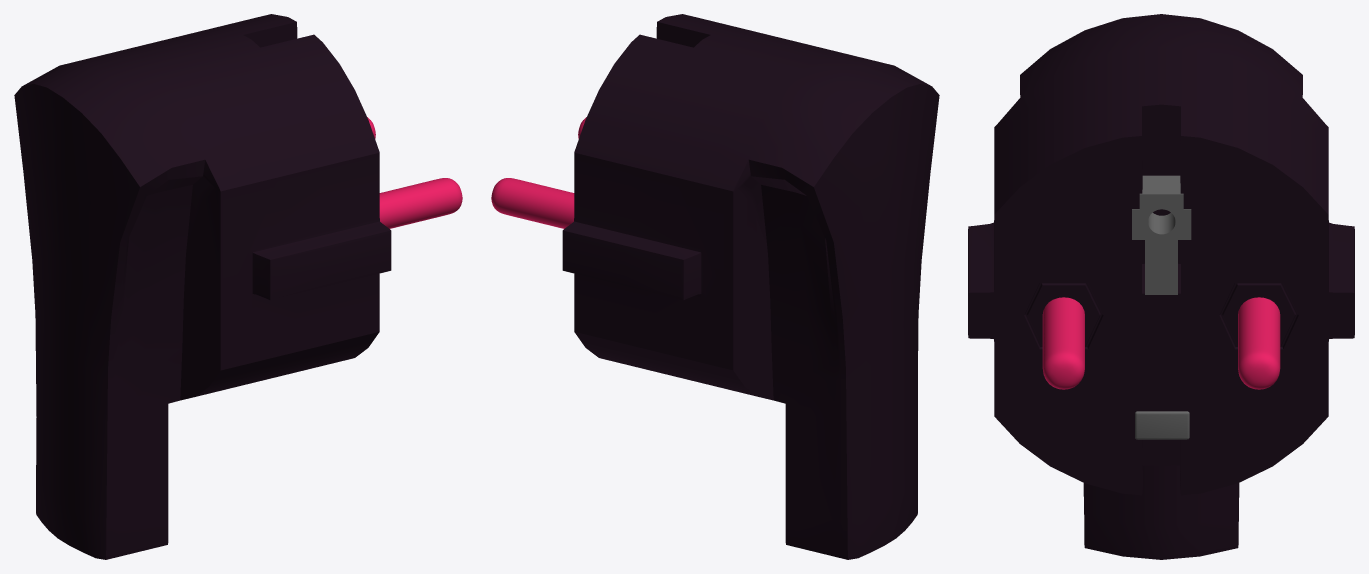
Rendered from Plug.fbx.
3 renders of one model, left to right at view 1: azimuth 30°, elevation 25°; view 2: azimuth 150°, elevation 25°; view 3: azimuth 270°, elevation 25°, orthographic. The views are drawn at different scales.
Parts seen in each view (by area): view 1: Soket.004, Soket.003; view 2: Soket.004, Soket.003; view 3: Soket.004, Soket.003, Cube.010.
Part boxes in pixels (x1,y1,x2,y2): Soket.004: (14, 14, 391, 559); Soket.003: (367, 117, 462, 228); Soket.004: (562, 14, 939, 559); Soket.003: (491, 117, 586, 228); Soket.004: (968, 14, 1354, 559); Soket.003: (1042, 297, 1280, 389); Cube.010: (1132, 175, 1191, 439).
Size of the model in its own units: 17.66 by 21.34 by 14.71.
